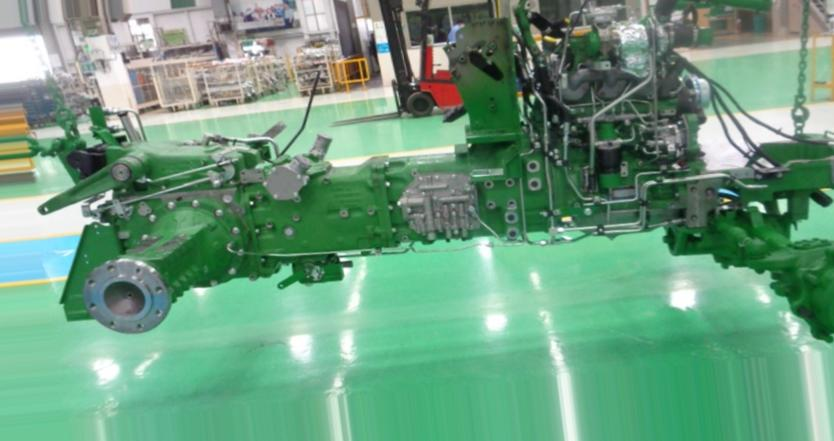engine: (41, 0, 834, 345)
